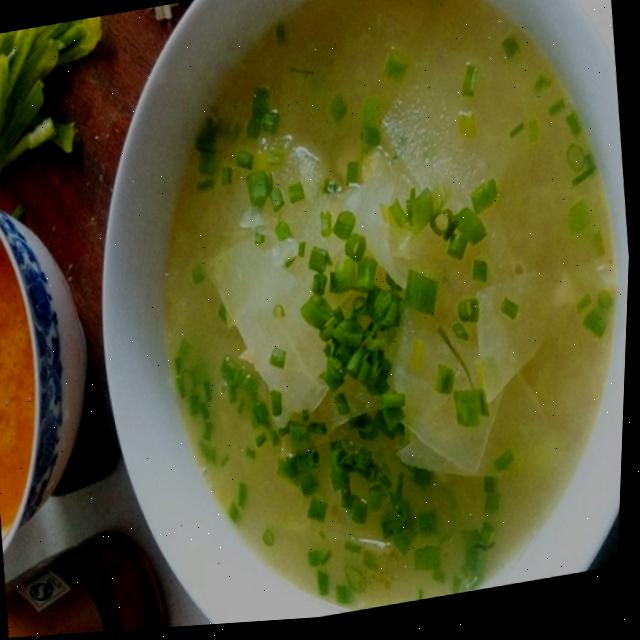汤锅炖物: (95, 0, 640, 634)
